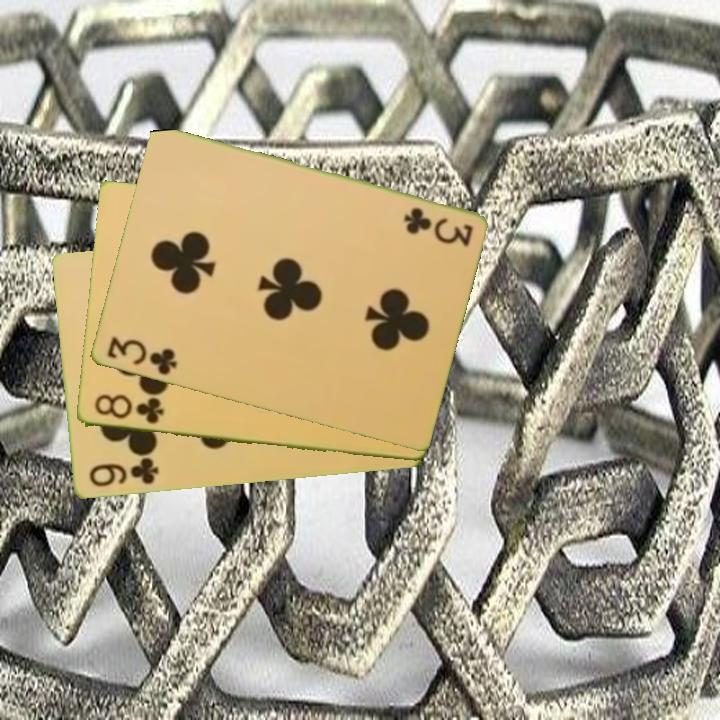3c: (103, 333, 180, 379), (399, 204, 475, 248)
8c: (90, 391, 166, 427)
9c: (85, 455, 161, 490)
